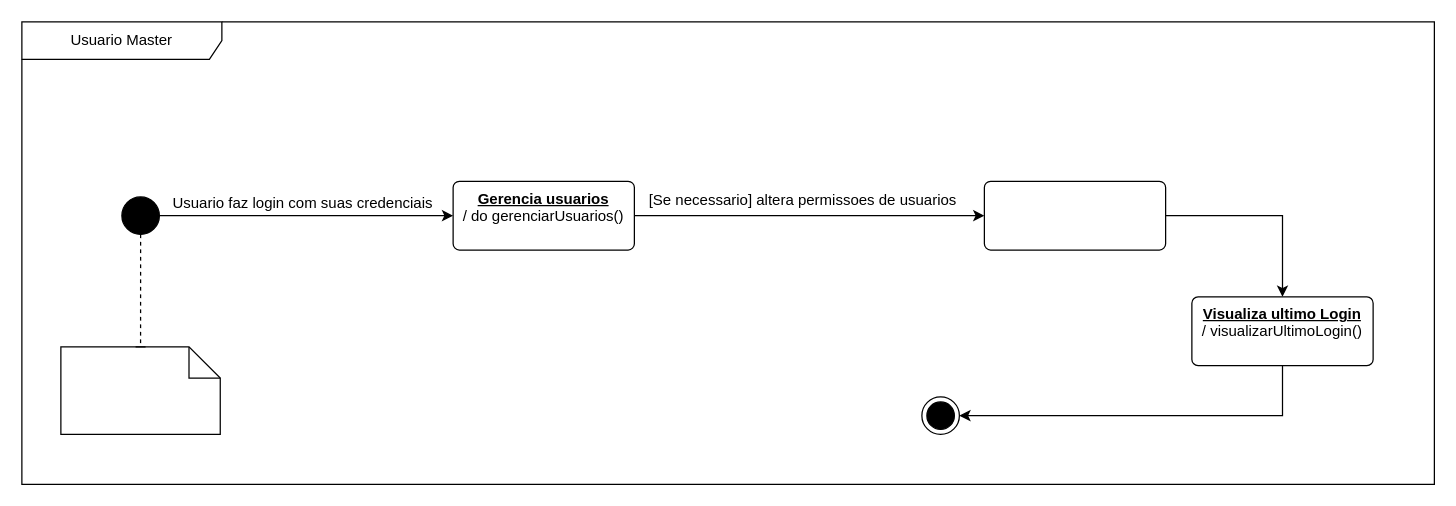
The diagram is 1456 pixels wide and 506 high, and some of its shapes have lost their labels. The shapes that lost their labels are listed below. From the top down, each one's centre as x and y in pixels, then its label:
At (1074,215): "Altera Permissoes / do alterarPermissoes()".
At (140,390): "O usuario deve estar logado".
